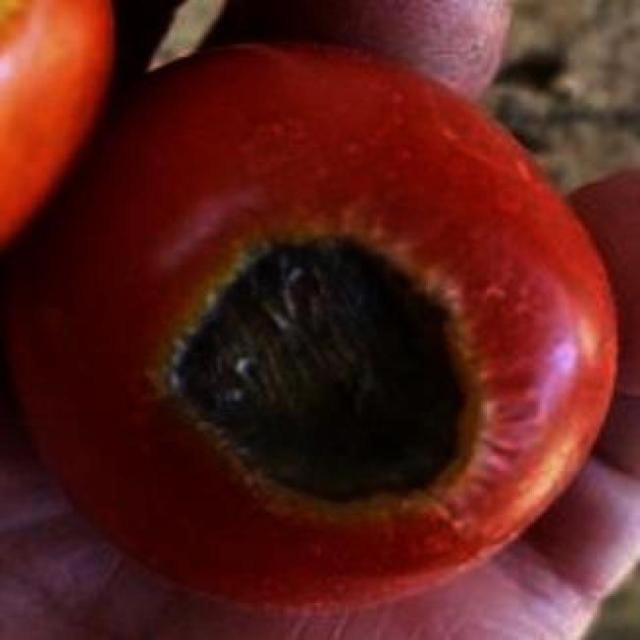Blossom End Rot Fruit: (91, 147, 333, 351)
